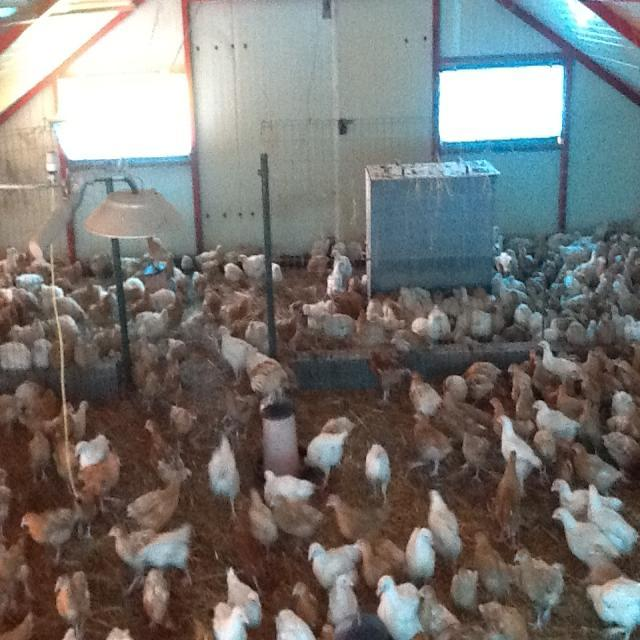poussin: (513, 546, 563, 632), (134, 522, 194, 591), (548, 508, 618, 564), (17, 506, 80, 568), (585, 484, 639, 554), (583, 576, 640, 638), (108, 523, 159, 591), (206, 438, 246, 524), (143, 418, 192, 488), (469, 532, 516, 604), (240, 344, 290, 411), (374, 574, 424, 638), (498, 415, 540, 491), (125, 473, 185, 526), (323, 492, 392, 538), (548, 482, 622, 524), (300, 540, 363, 587), (79, 451, 125, 515), (268, 492, 324, 544), (425, 488, 463, 564), (494, 451, 524, 544), (52, 568, 92, 636), (568, 440, 624, 488), (366, 349, 412, 407), (410, 412, 448, 480), (460, 600, 524, 640), (302, 428, 347, 484), (354, 536, 398, 592), (418, 586, 463, 640), (223, 569, 262, 630), (560, 217, 607, 267), (529, 398, 579, 444), (486, 395, 534, 442), (0, 536, 33, 602), (245, 490, 278, 555), (458, 422, 492, 484), (40, 280, 88, 323), (537, 340, 586, 382), (260, 467, 316, 503), (215, 326, 255, 376), (51, 434, 86, 491), (362, 444, 394, 506), (596, 428, 638, 475), (536, 428, 572, 482), (24, 430, 58, 486), (0, 378, 38, 428), (142, 568, 172, 630), (408, 368, 442, 422), (323, 574, 359, 624), (603, 388, 640, 436), (407, 526, 437, 582), (466, 360, 500, 408), (586, 542, 624, 584), (288, 580, 324, 624), (272, 609, 320, 640), (130, 306, 167, 344), (229, 306, 269, 341), (351, 311, 389, 347), (213, 601, 248, 640), (448, 566, 480, 608), (27, 388, 58, 431), (74, 434, 111, 470), (274, 301, 301, 350), (333, 277, 364, 319), (554, 382, 590, 418), (504, 361, 536, 401), (614, 271, 640, 320), (150, 289, 186, 324), (318, 311, 357, 343), (146, 251, 177, 291), (537, 234, 564, 279), (12, 288, 45, 324), (468, 308, 504, 341), (554, 312, 598, 339), (584, 351, 616, 388), (612, 354, 640, 396), (493, 272, 527, 306), (590, 304, 616, 347), (43, 403, 74, 439), (568, 245, 598, 282), (191, 262, 221, 298), (300, 300, 338, 328), (530, 358, 559, 394), (440, 290, 480, 316), (0, 342, 32, 374), (238, 252, 268, 286), (8, 316, 44, 344), (217, 296, 248, 328), (71, 336, 103, 367), (564, 285, 598, 314), (200, 283, 224, 324), (318, 416, 354, 443), (400, 288, 432, 318), (532, 280, 566, 308), (528, 306, 554, 342), (168, 402, 196, 434), (0, 466, 14, 529), (28, 341, 56, 372), (497, 291, 518, 332), (87, 290, 113, 323), (0, 242, 17, 292), (428, 303, 450, 341), (444, 374, 468, 408), (385, 299, 409, 332), (70, 400, 90, 439), (324, 260, 344, 298), (196, 243, 226, 268), (12, 272, 46, 294), (108, 278, 142, 300), (330, 248, 352, 282), (48, 338, 72, 369), (494, 244, 516, 276), (405, 312, 429, 341), (52, 260, 83, 282), (145, 237, 169, 265), (608, 305, 628, 338), (516, 242, 536, 275), (245, 321, 270, 347), (601, 240, 620, 274), (223, 262, 246, 290), (50, 316, 79, 338), (511, 299, 532, 329), (306, 253, 332, 274), (620, 242, 639, 270), (120, 256, 146, 276), (26, 257, 54, 275), (366, 298, 384, 326), (518, 345, 534, 375), (590, 270, 608, 296), (624, 311, 640, 340), (628, 337, 640, 371), (164, 337, 184, 357), (269, 262, 285, 284), (178, 254, 196, 270)
